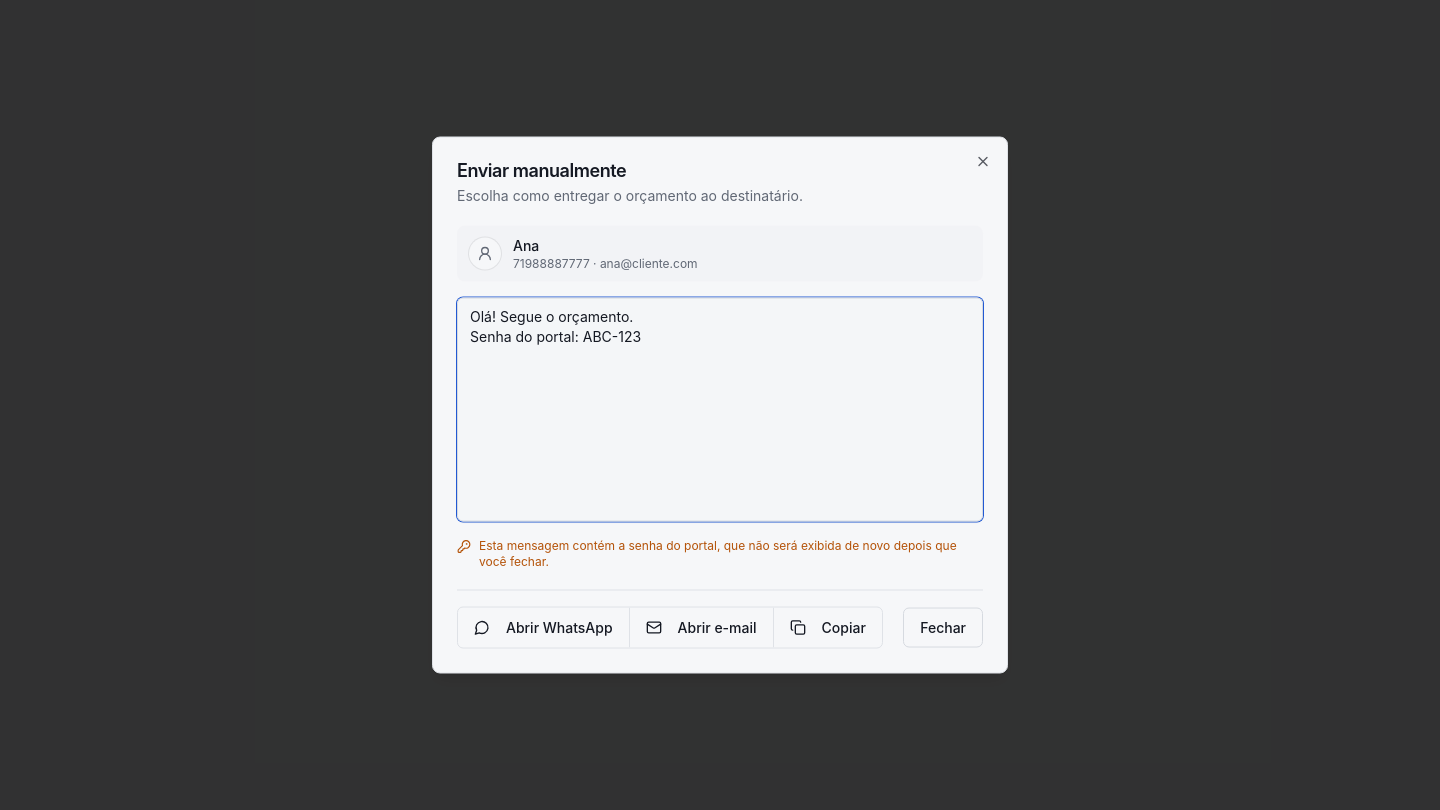
it: EnvioManualOrcamentoDialog › confirmação sem podeGerarNovaSenha oferece só Voltar e Fechar mesmo assim
The width and height of the screenshot is (1440, 810).
Click the button "Fechar" at x=943, y=628, box [903,608,983,648]
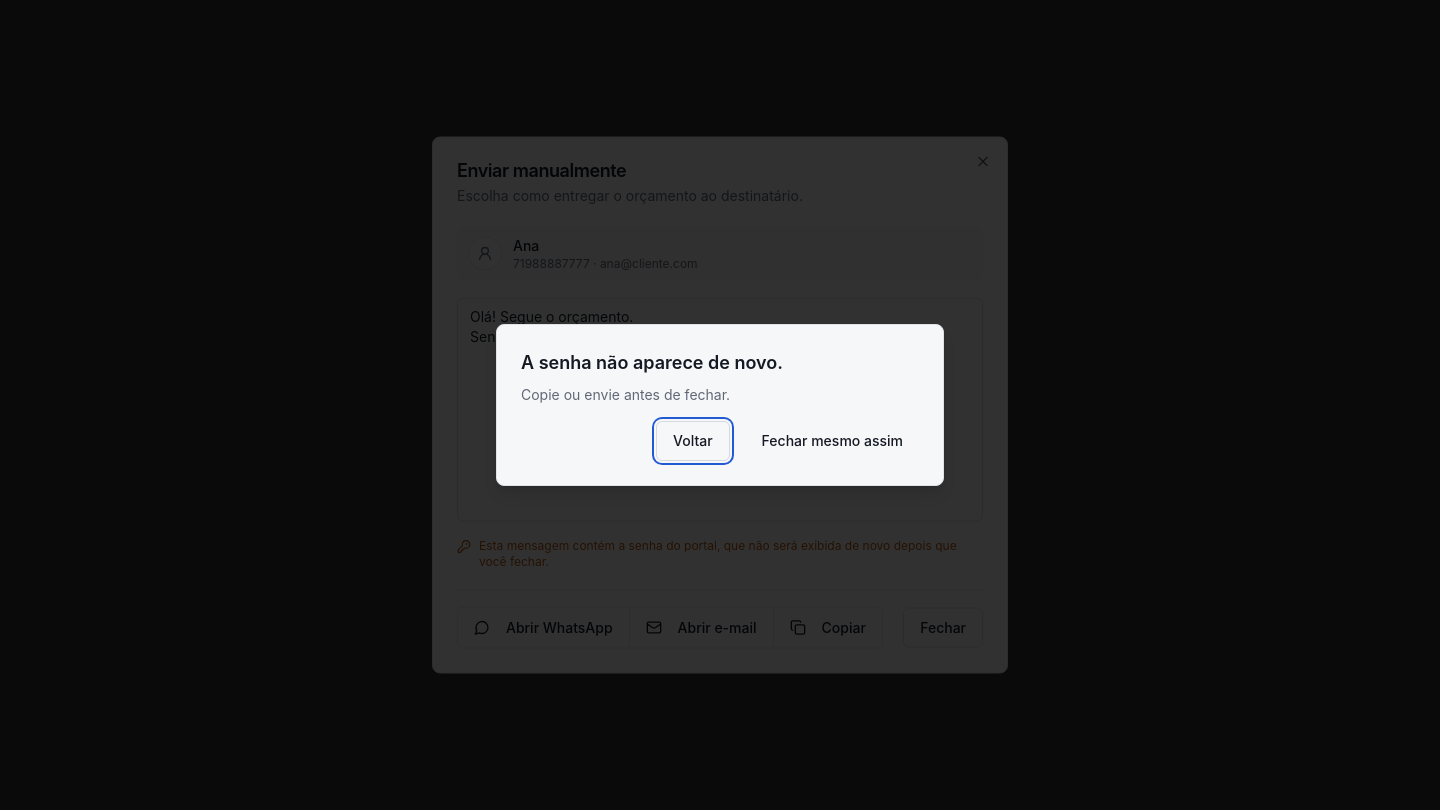
Check: the text "Copie ou envie antes de fechar." is shown, box [521,386,730,403]
Check: the button "Voltar" is shown, box [656,421,730,461]
Check: the button "Fechar mesmo assim" is shown, box [746,421,919,461]
